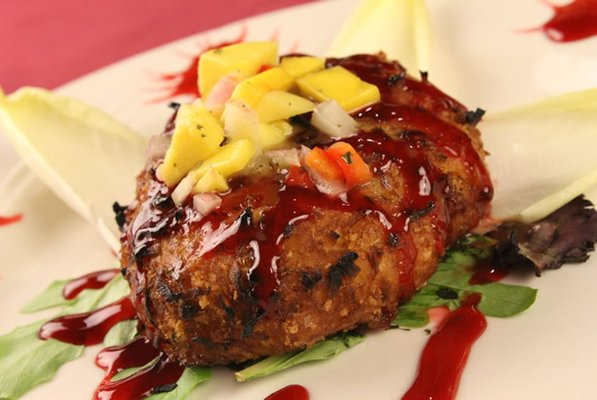soup: (112, 35, 511, 382)
